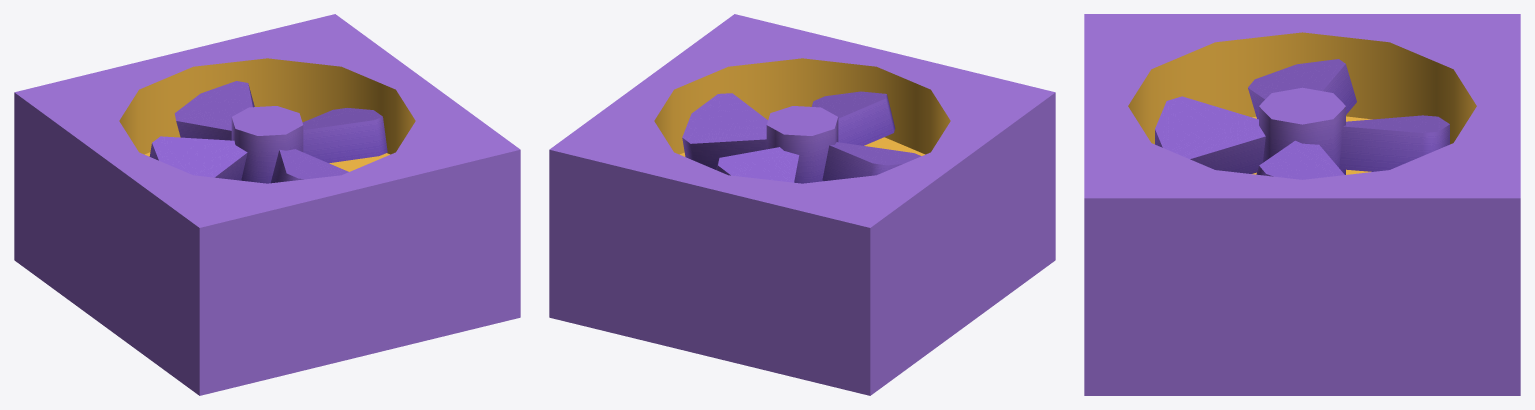
Rendered from marble-kit--fan-four.glb.
3 views of the same model, side by side, from view 1: azimuth 30°, elevation 25°; view 2: azimuth 150°, elevation 25°; view 3: azimuth 270°, elevation 25° (orthographic). The views are drawn at different scales.
Parts seen in each view (by area): view 1: fan-four, fan; view 2: fan-four, fan; view 3: fan-four, fan.
Part boxes in pixels (<box>): fan-four: <box>14,14,520,395</box>; fan: <box>149,81,387,183</box>; fan-four: <box>549,14,1055,395</box>; fan: <box>682,91,921,183</box>; fan-four: <box>1084,14,1520,395</box>; fan: <box>1155,59,1449,179</box>.
Bounding box in the file's own units: 1 × 0.5 × 1.
1 material, 1 textured.
